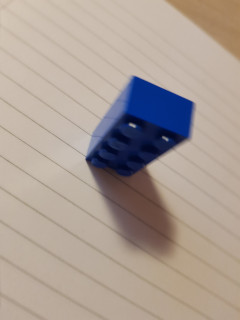2x4 blue: (85, 70, 196, 188)
